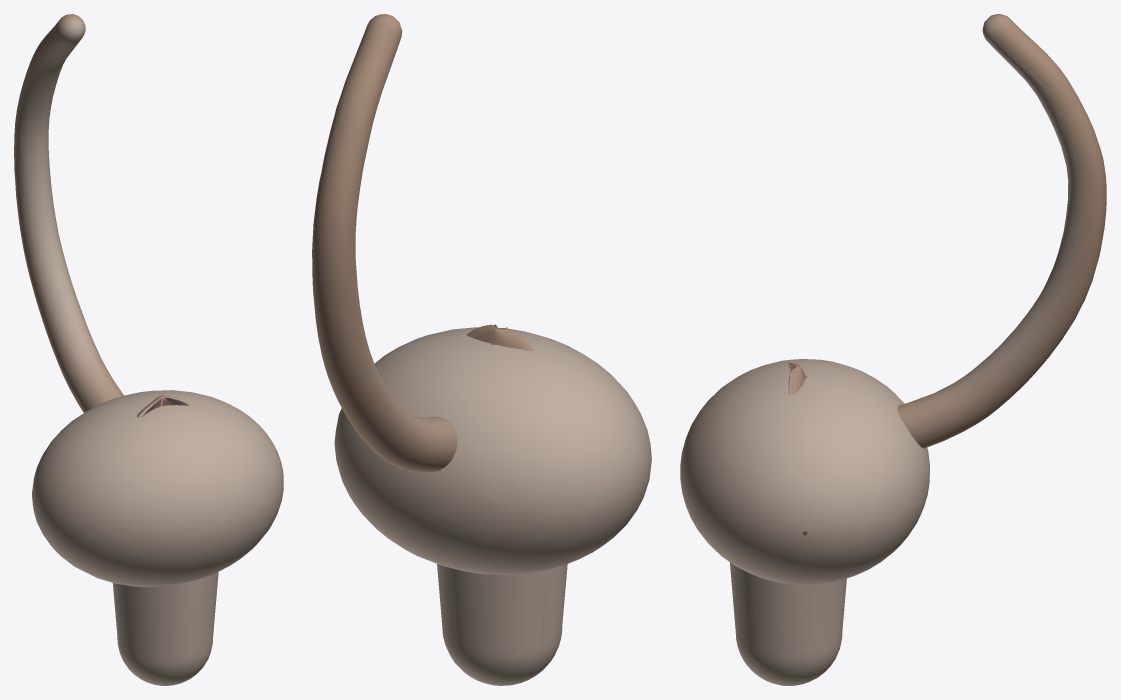
File: kitten_body.glb
The picture shows the model from 3 angles, left to right: view 1: azimuth 30°, elevation 25°; view 2: azimuth 150°, elevation 25°; view 3: azimuth 270°, elevation 25°; orthographic projection. The views are drawn at different scales.
Visible parts, largest first — view 1: pelvis__skin__hips, tail__skin__tail, thigh__skin__thigh, ear__skin__ear; view 2: pelvis__skin__hips, tail__skin__tail, thigh__skin__thigh, ear__skin__ear; view 3: pelvis__skin__hips, tail__skin__tail, thigh__skin__thigh.
Part boxes in pixels (x1,y1,x2,y2): pelvis__skin__hips: (32,390,283,587); tail__skin__tail: (14,14,123,412); thigh__skin__thigh: (112,572,218,685); ear__skin__ear: (137,395,191,418); pelvis__skin__hips: (334,327,651,574); tail__skin__tail: (312,14,457,471); thigh__skin__thigh: (437,564,567,685); ear__skin__ear: (467,324,534,350); pelvis__skin__hips: (680,359,929,584); tail__skin__tail: (897,14,1106,448); thigh__skin__thigh: (730,562,846,685).
Bounding box in the file's own units: 0.072 × 0.1822 × 0.1058.
